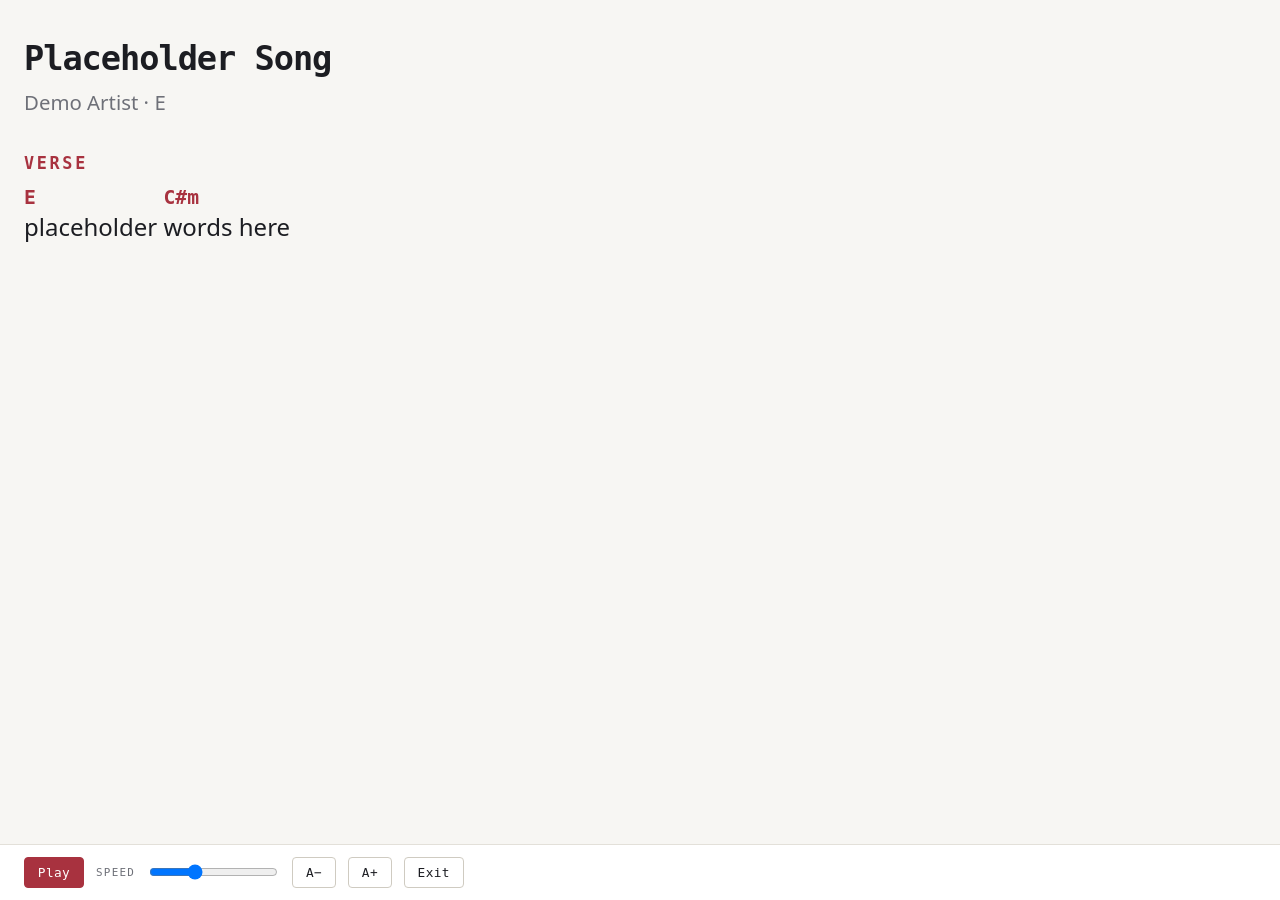
Scenario: StagePage › toggles between play and pause
Expected: the heading "Placeholder Song" is shown, [24, 39, 331, 78]
Click the button "Play" at coordinates (54, 872), box [24, 857, 84, 888]
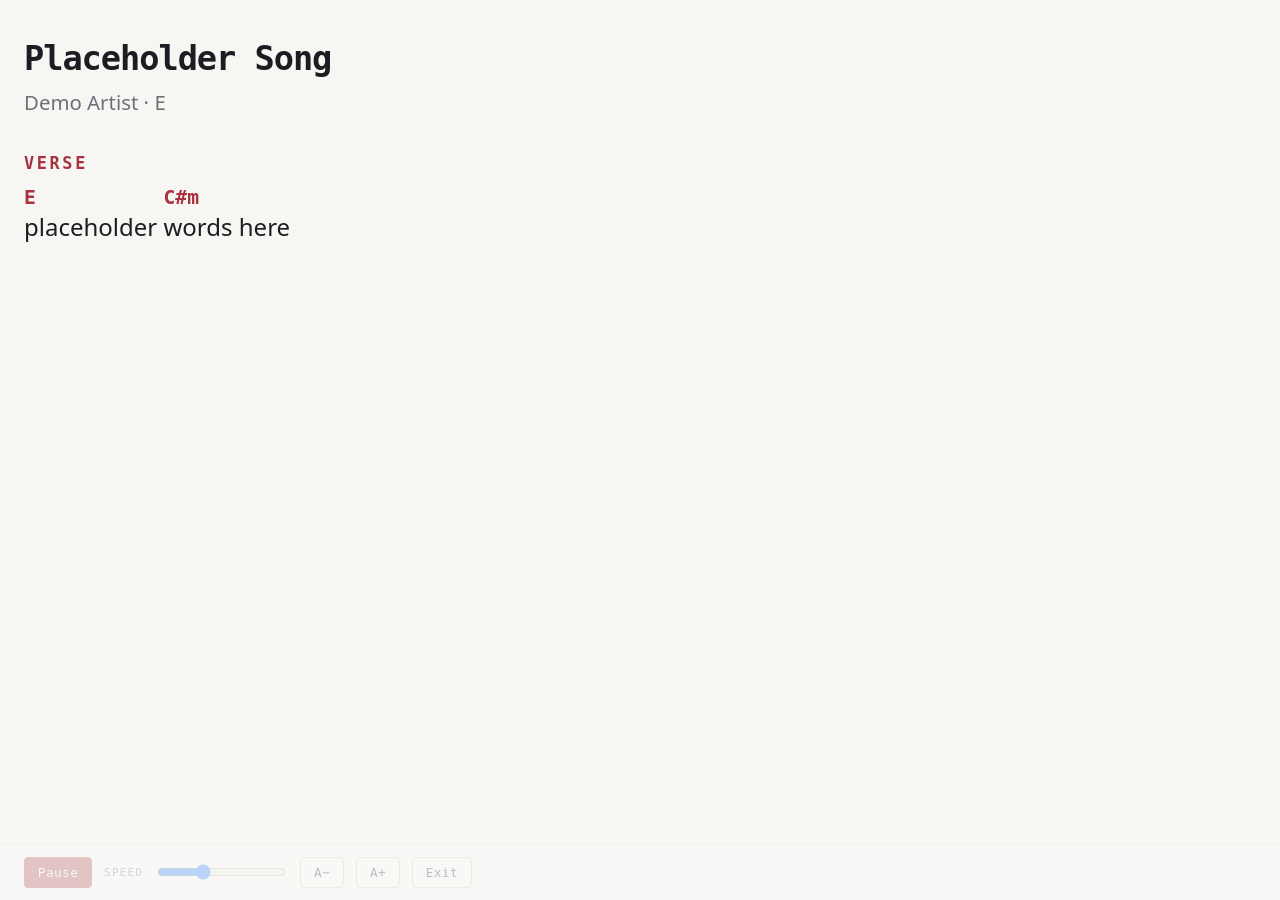
Result: the button "Pause" is shown
Click the button "Pause" at coordinates (58, 872), box [24, 857, 92, 888]
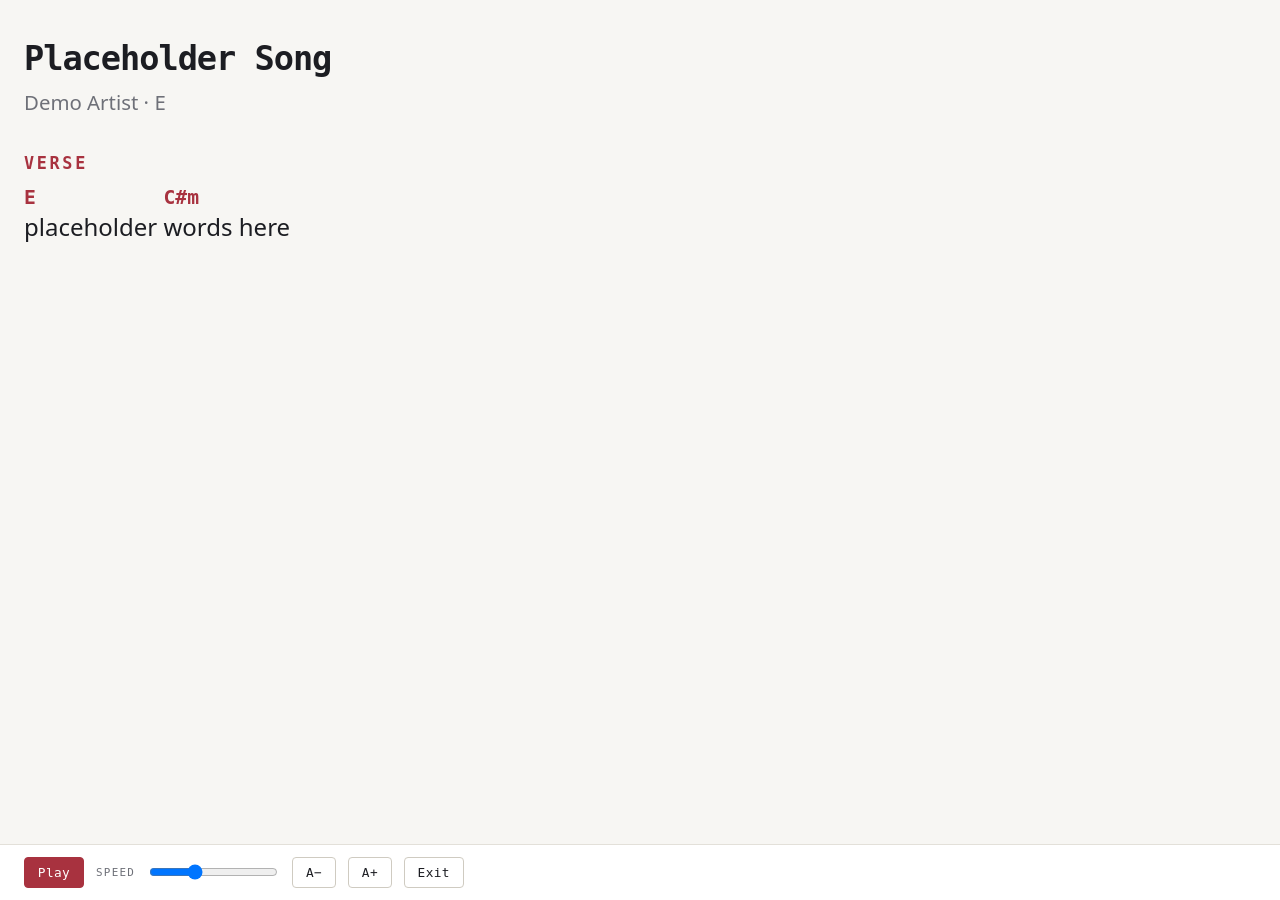
Result: the button "Play" is shown at [24, 857, 84, 888]
